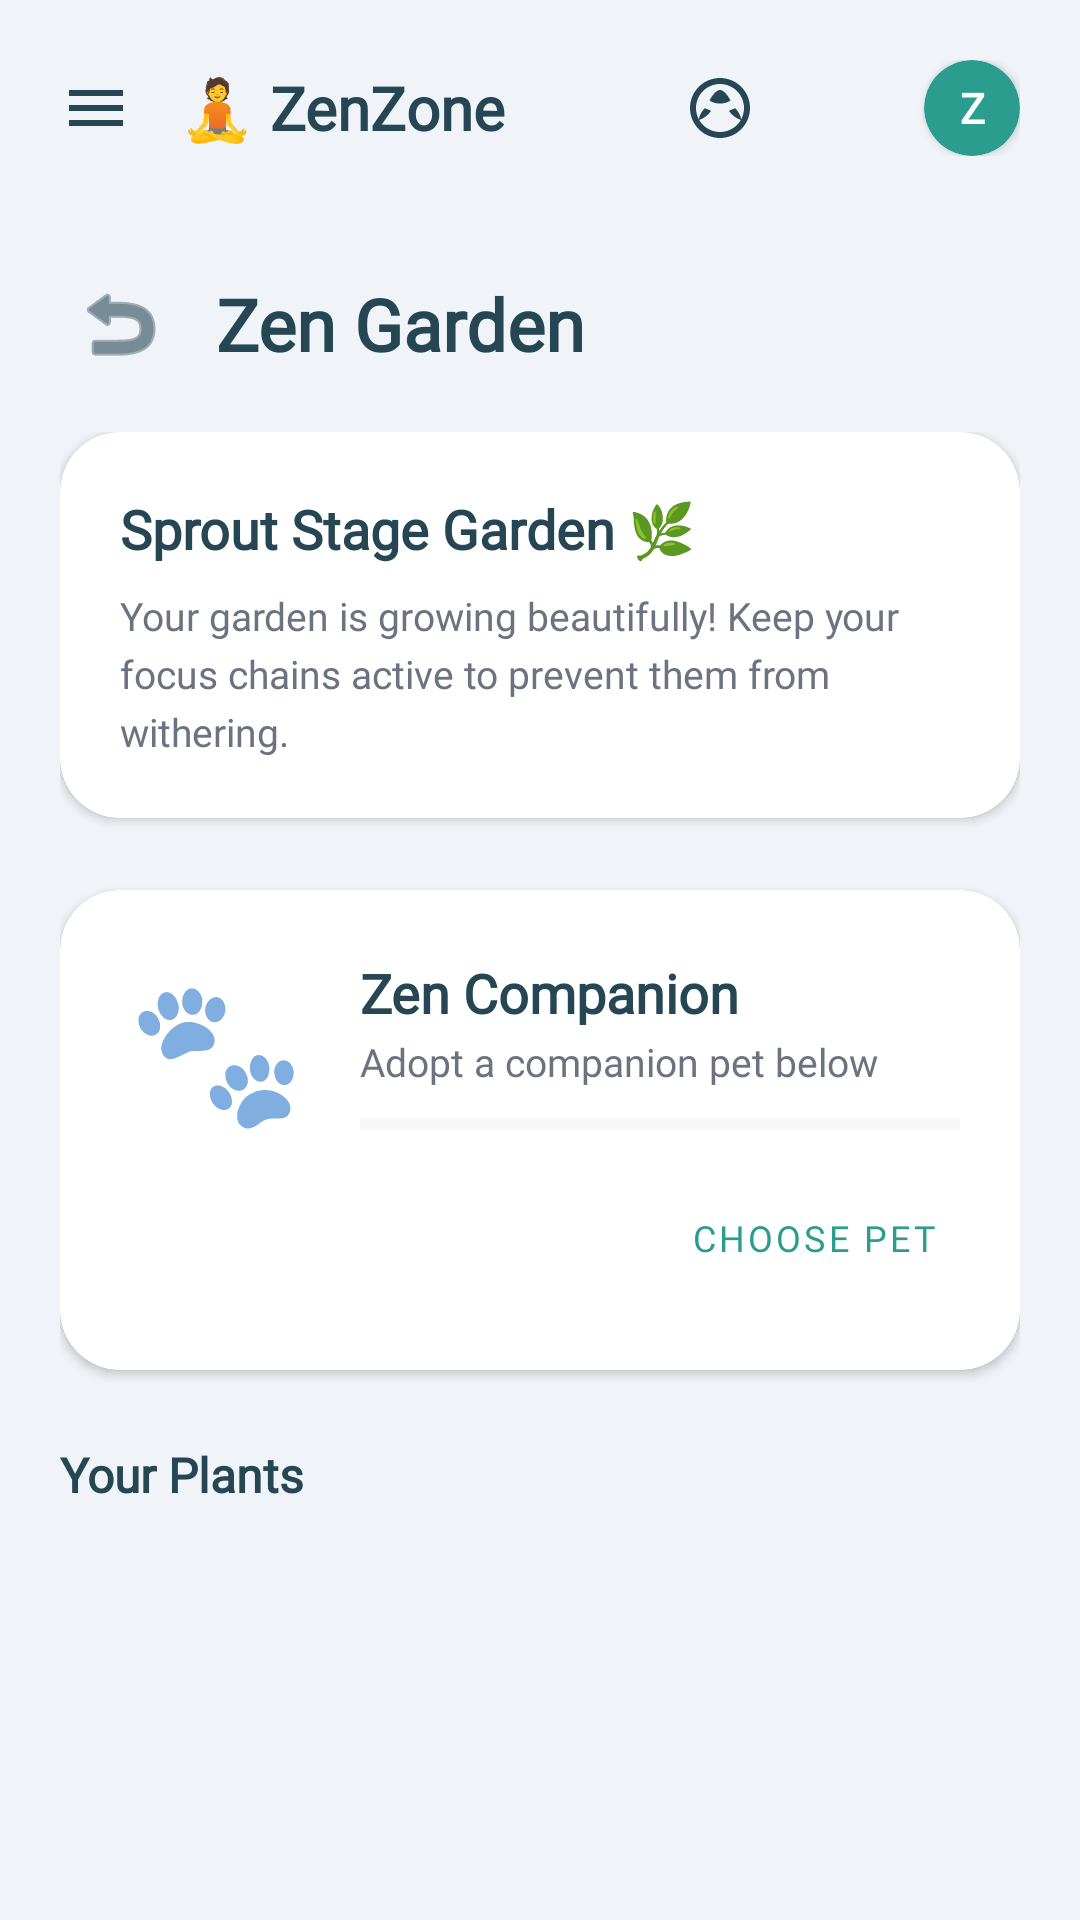

Named icons in this screenshot (1080x1920) and their bounding boxes, (x1, y1, x2, y2):
Go back: (87, 293, 156, 356)
Open Navigation Drawer: (69, 90, 123, 126)
